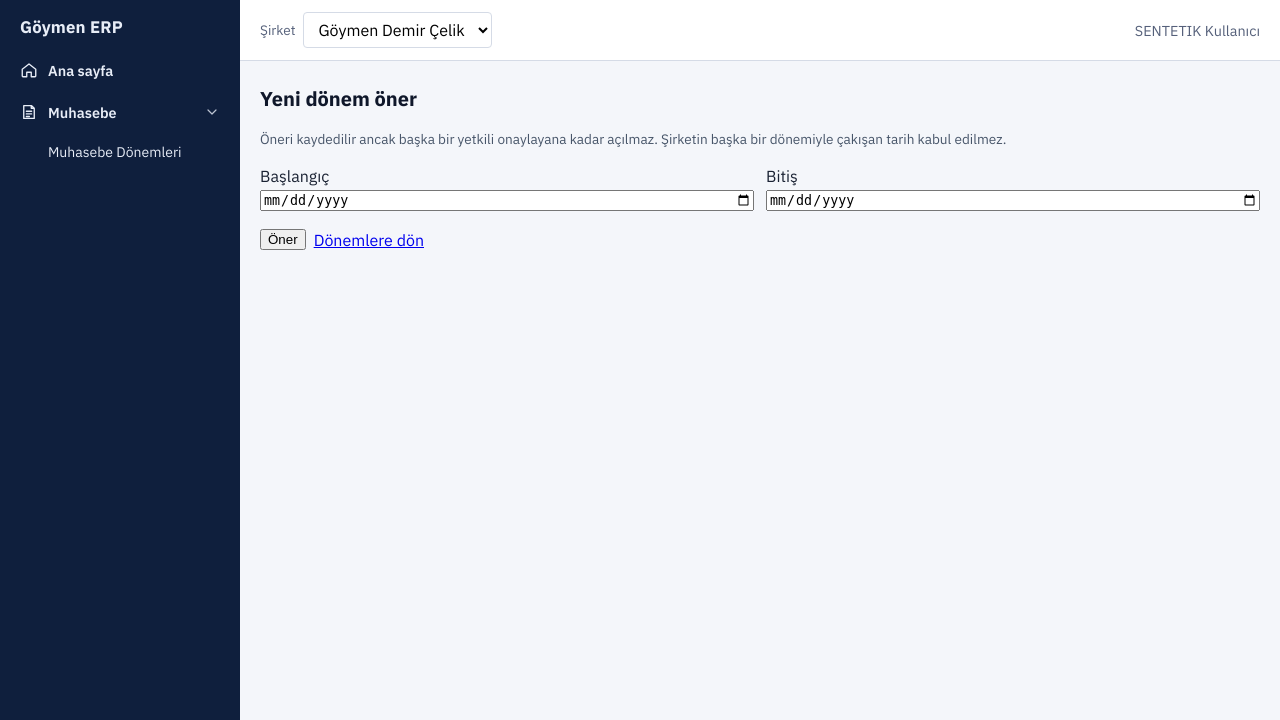
Test: M-07 period proposal › refuses reversed dates locally and sends nothing
Type "2026-09-30" into the date field labelled "Başlangıç" at (507, 201), box [260,190,754,211]
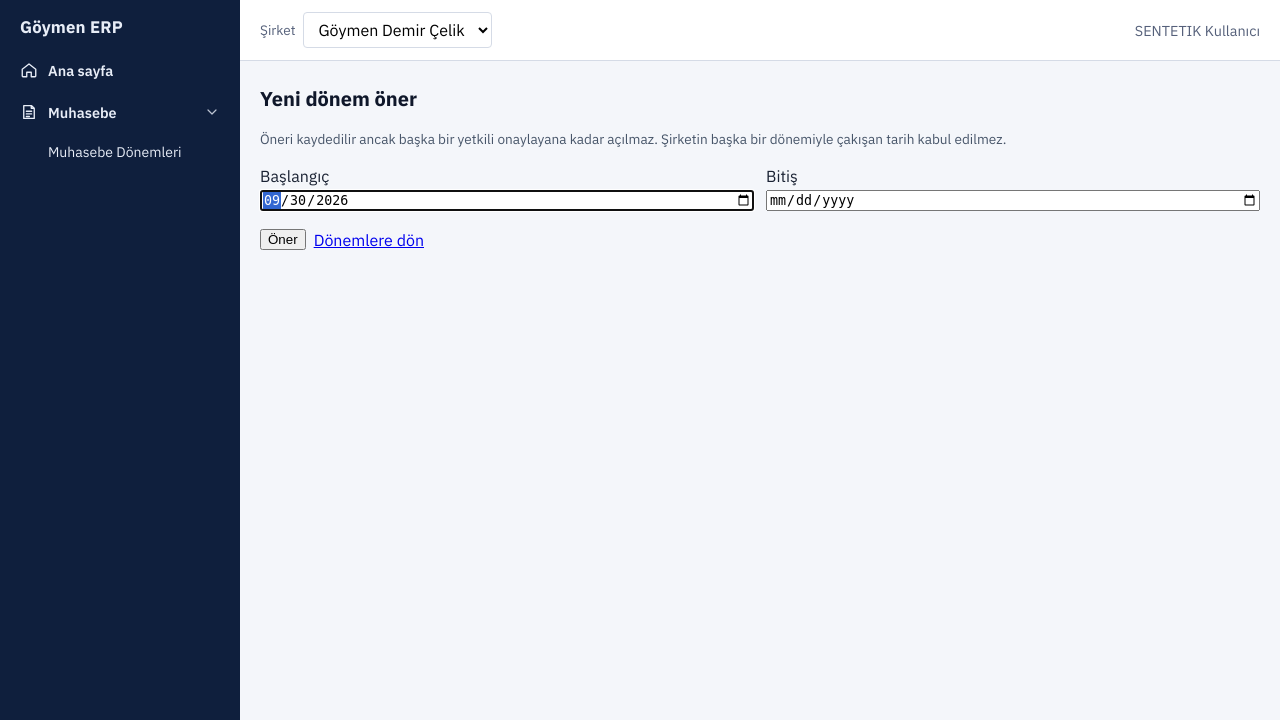
Type "2026-09-01" into the date field labelled "Bitiş" at (1013, 201), box [766,190,1260,211]
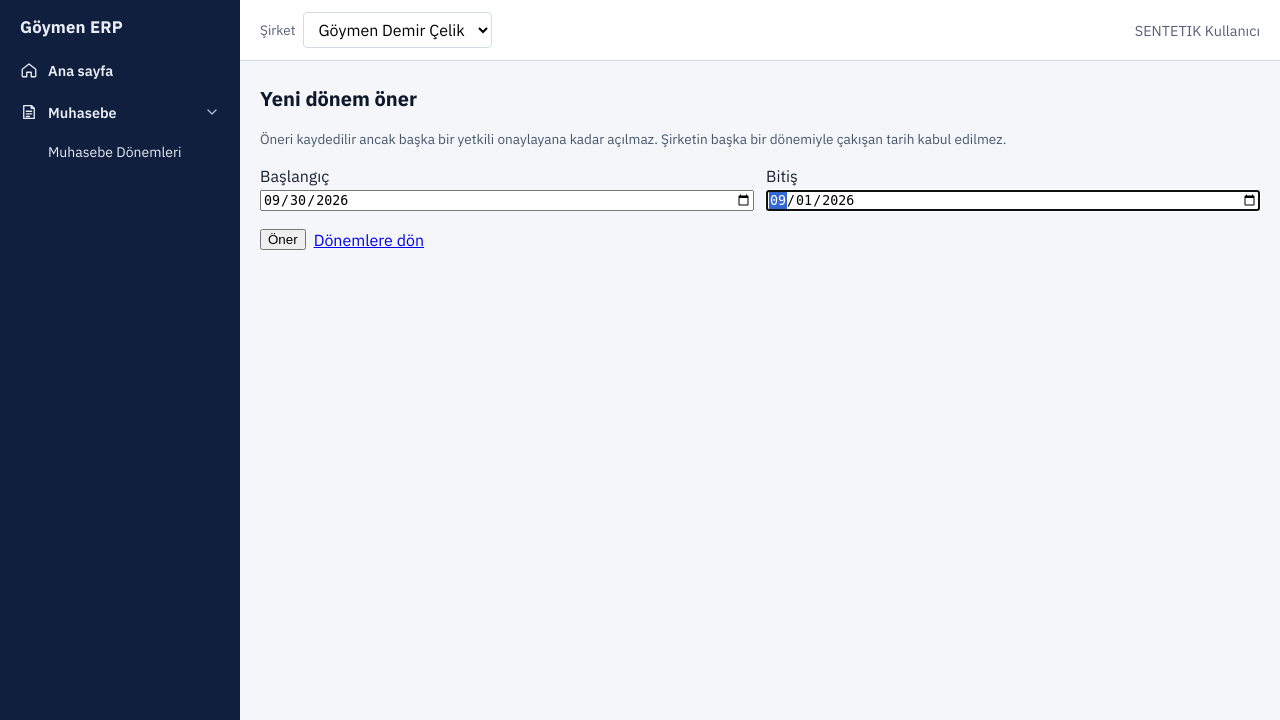
Click the button "Öner" at (283, 240), box [260,229,306,250]
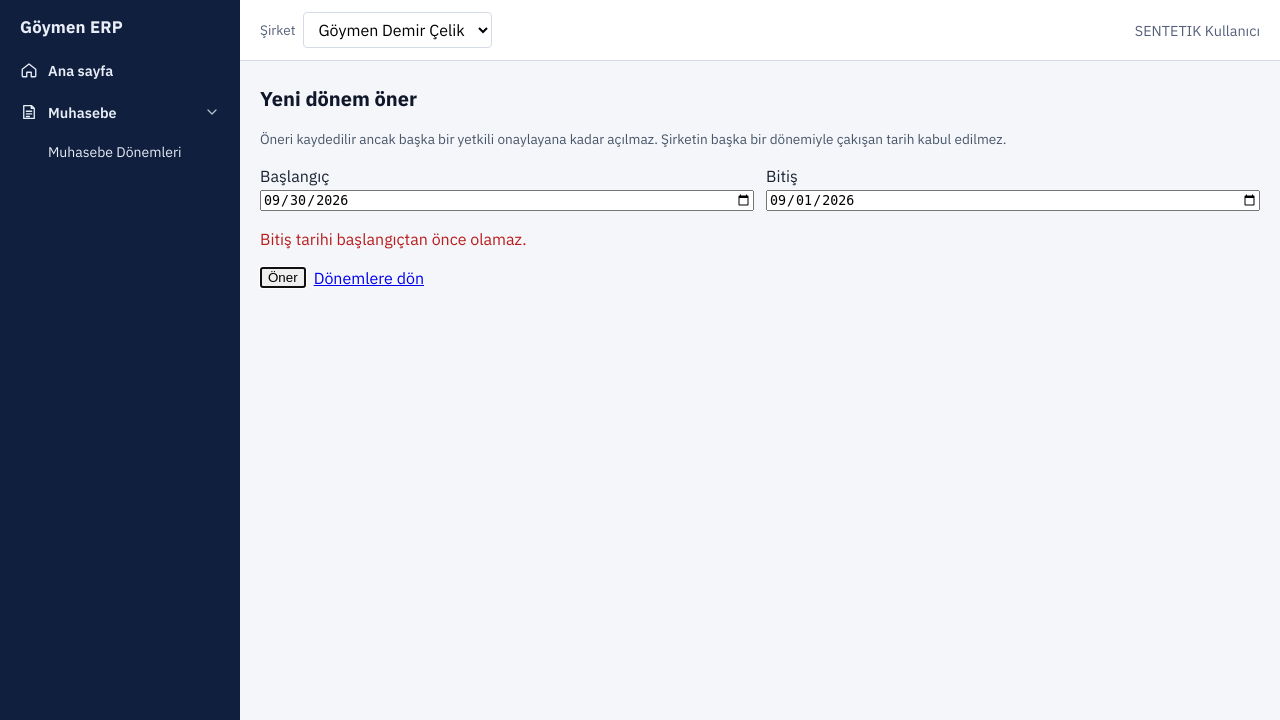
Result: the text "Bitiş tarihi başlangıçtan önce olamaz." is shown at [260,229,527,249]
